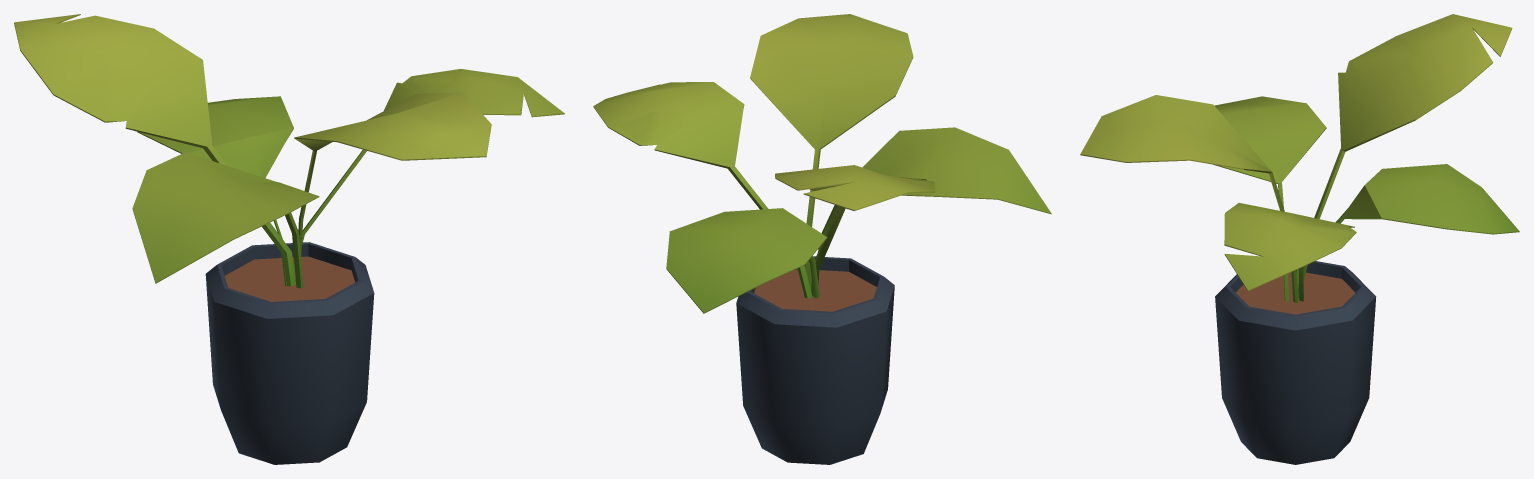
Rendered from SM_Props_Plant_08.fbx.
3 renders of one model, left to right at view 1: azimuth 30°, elevation 25°; view 2: azimuth 150°, elevation 25°; view 3: azimuth 270°, elevation 25°, orthographic. The views are drawn at different scales.
Parts seen in each view (by area): view 1: SM_Props_Plant_08; view 2: SM_Props_Plant_08; view 3: SM_Props_Plant_08.
Boxes of the visible parts, box(x1,y1,x2,y2) form: SM_Props_Plant_08: box(14, 14, 564, 464); SM_Props_Plant_08: box(593, 14, 1051, 464); SM_Props_Plant_08: box(1080, 14, 1519, 464).
Bounding box in the file's own units: 1.16 × 0.9562 × 1.08.
